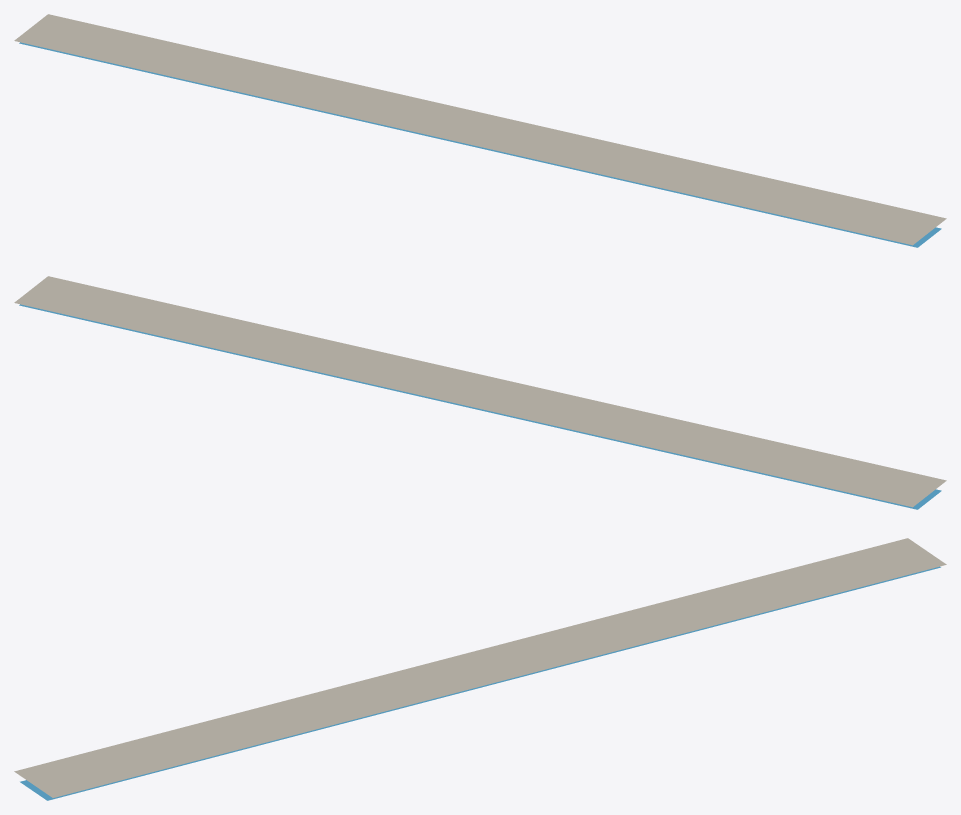
The picture shows the model from 3 angles, top to bottom: view 1: azimuth 30°, elevation 25°; view 2: azimuth 210°, elevation 25°; view 3: azimuth 270°, elevation 25°; orthographic projection. The views are drawn at different scales.
Parts seen in each view (by area): view 1: estructura_terreno, estructura_agua; view 2: estructura_terreno, estructura_agua; view 3: estructura_terreno, estructura_agua.
Part boxes in pixels (<box>): estructura_terreno: <box>14,14,946,245</box>; estructura_agua: <box>19,42,941,247</box>; estructura_terreno: <box>14,276,946,507</box>; estructura_agua: <box>19,304,941,509</box>; estructura_terreno: <box>14,538,946,797</box>; estructura_agua: <box>20,566,940,800</box>.
Size of the model in its own units: 34.85 by 0.41 by 52.82.
